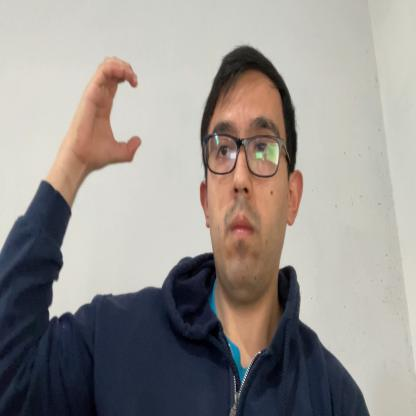C: (80, 56, 142, 171)
